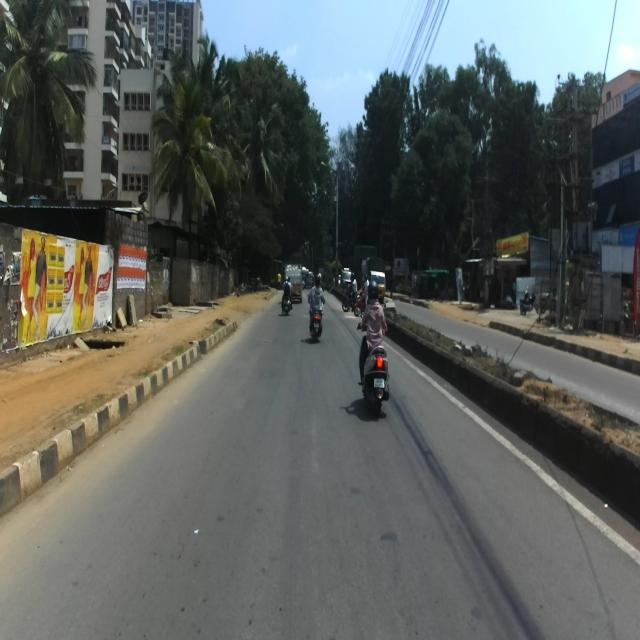scooter: (354, 306, 390, 418), (307, 292, 323, 341), (281, 284, 293, 315)
truck: (364, 255, 386, 302)
